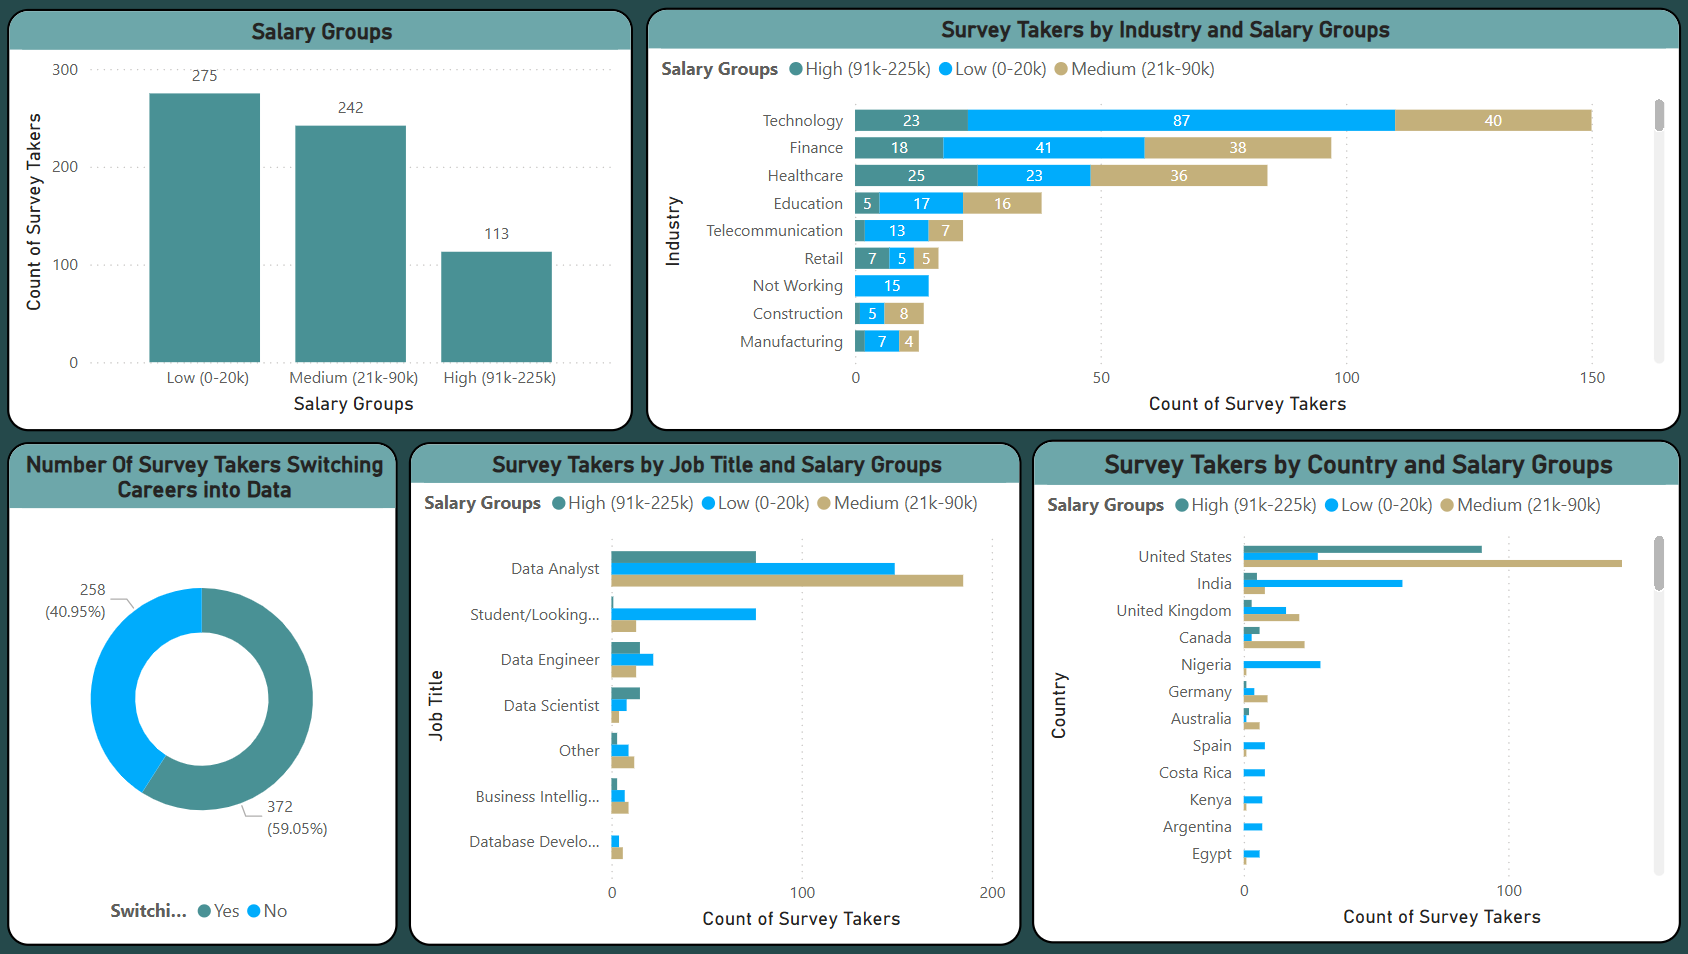

Layout of this report page (visuals, bound fields, positions):
{"tool":"powerbi","page":{"name":"Salary & Career Analysis","canvas":[1280,720],"ordinal":1},"visuals":[{"type":"columnChart","title":"Salary Groups","fields":{"Y":["CountNonNull(Data Professional Survey.Survey Takers)"],"Category":["Data Professional Survey.Salary Groups"]},"box":[8.9,7.9,470.3,317.5],"z":0},{"type":"clusteredBarChart","title":"Survey Takers by Job Title and Salary Groups","fields":{"Category":["Data Professional Survey.Job Title"],"Y":["CountNonNull(Data Professional Survey.Survey Takers)"],"Series":["Data Professional Survey.Salary Groups"]},"box":[311.2,333.8,460,378.8],"z":1000},{"type":"barChart","title":"Survey Takers by Industry and Salary Groups","fields":{"Category":["Data Professional Survey.Industry"],"Y":["CountNonNull(Data Professional Survey.Survey Takers)"],"Series":["Data Professional Survey.Salary Groups"]},"box":[488.8,7.5,777.9,318.3],"z":2000},{"type":"donutChart","title":"Number Of Survey Takers Switching Careers into Data","fields":{"Category":["Data Professional Survey.Switching Careers into Data"],"Y":["CountNonNull(Data Professional Survey.Survey Takers)"]},"box":[8.8,333.8,293.8,378.8],"z":3000},{"type":"clusteredBarChart","title":"Survey Takers by Country and Salary Groups","fields":{"Category":["Data Professional Survey.Country"],"Y":["CountNonNull(Data Professional Survey.Survey Takers)"],"Series":["Data Professional Survey.Salary Groups"]},"box":[778.7,332.1,487.7,378.8],"z":4000}]}

Visuals, with their boxes in screenshot pixels (x1, y1, x2, y2), scaled from the page's 1280x720 canvas onto the 1688x954 screenshot:
"Salary Groups" columnChart: Rect(12, 10, 632, 431)
"Survey Takers by Job Title and Salary Groups" clusteredBarChart: Rect(410, 442, 1017, 944)
"Survey Takers by Industry and Salary Groups" barChart: Rect(645, 10, 1670, 432)
"Number Of Survey Takers Switching Careers into Data" donutChart: Rect(12, 442, 399, 944)
"Survey Takers by Country and Salary Groups" clusteredBarChart: Rect(1027, 440, 1670, 942)
